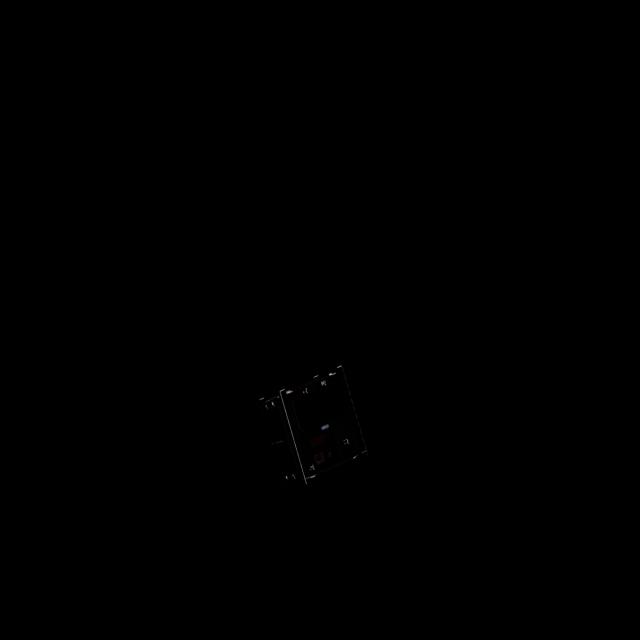medium_debris: (250, 354, 372, 494)
